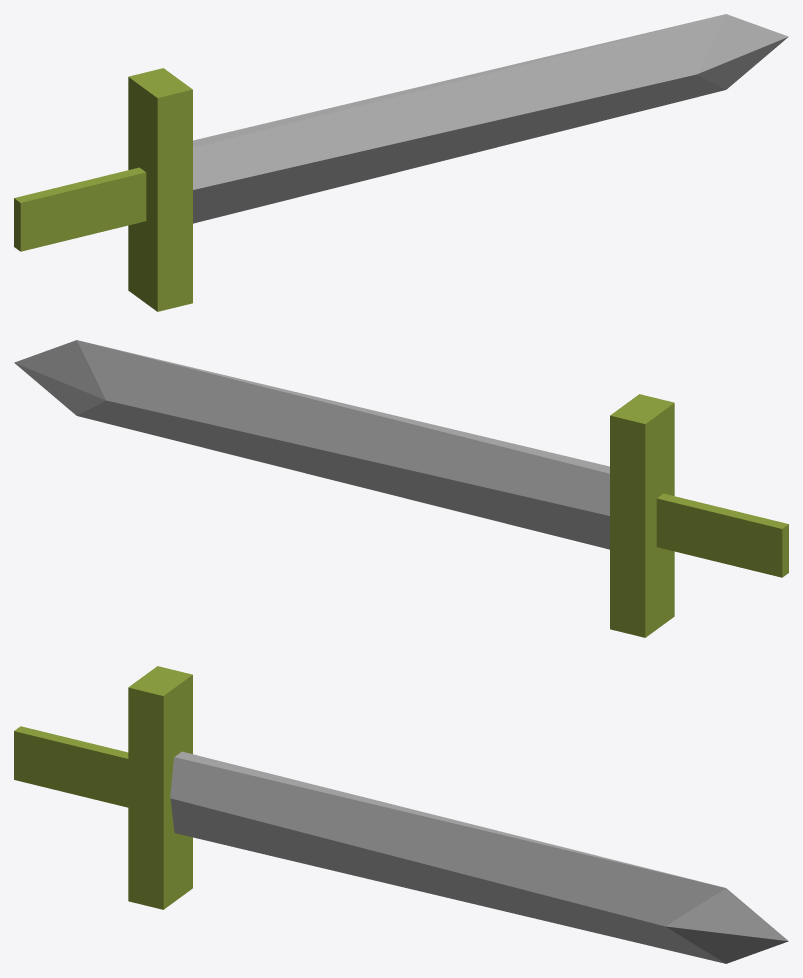
The model's file is GreenSword.fbx.
3 views of the same model, one above another, from view 1: azimuth 30°, elevation 25°; view 2: azimuth 150°, elevation 25°; view 3: azimuth 330°, elevation 25° (orthographic).
Visible parts, largest first — view 1: Cube.004; view 2: Cube.004; view 3: Cube.004.
Boxes of the visible parts, x1,y1,x2,y2 form: Cube.004: (14, 14, 788, 311); Cube.004: (14, 340, 788, 637); Cube.004: (14, 666, 788, 963).
Size of the model in its own units: 61.47 by 16.27 by 4.33.
